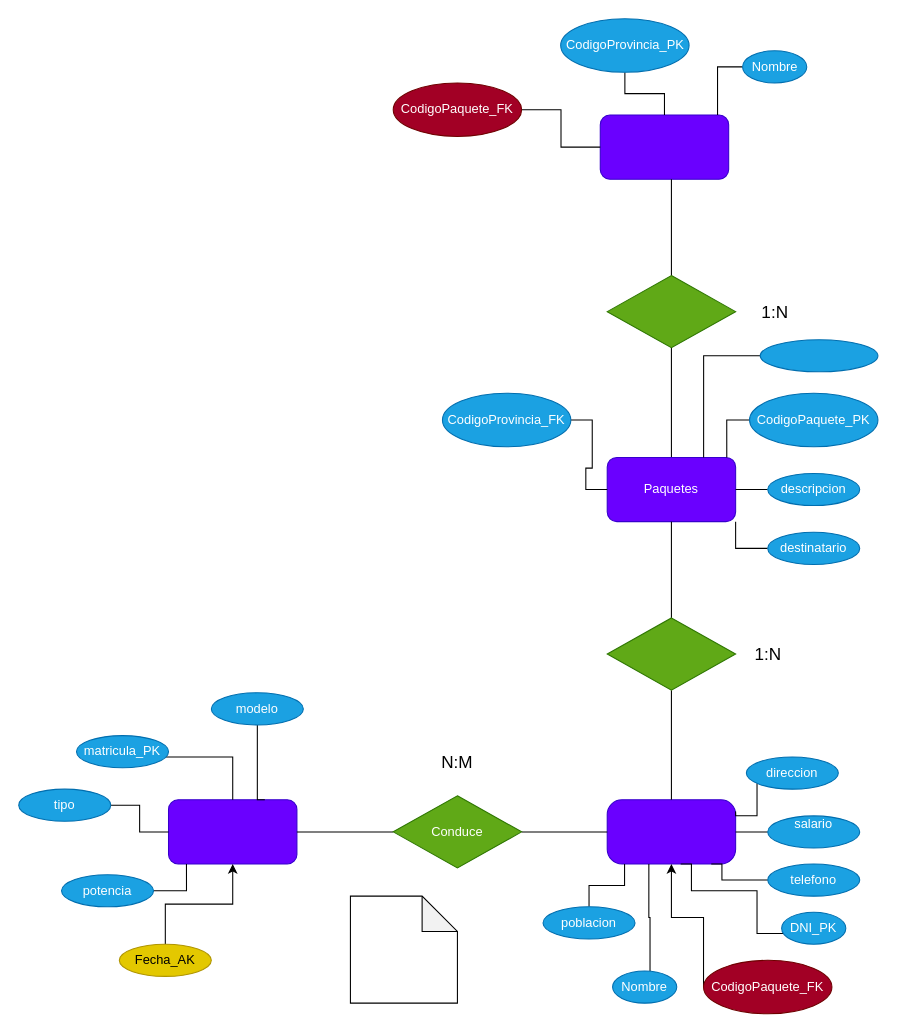
Image size: 897x1033. Some labels were removed from this diagram. Each missing label, with the centre of its shape:
Camioneros: the point at 671,831
Camiones: the point at 232,831
direccionEntrega: the point at 818,355
Entrega: the point at 671,653
Llega: the point at 671,311
Provincias: the point at 664,146
Se crea una tabla intermedia: the point at 403,949
